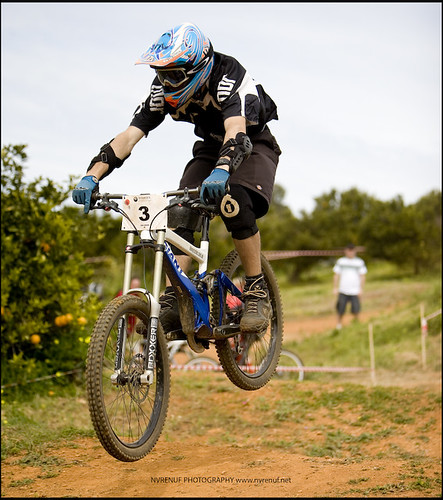helmet: (128, 20, 216, 105)
